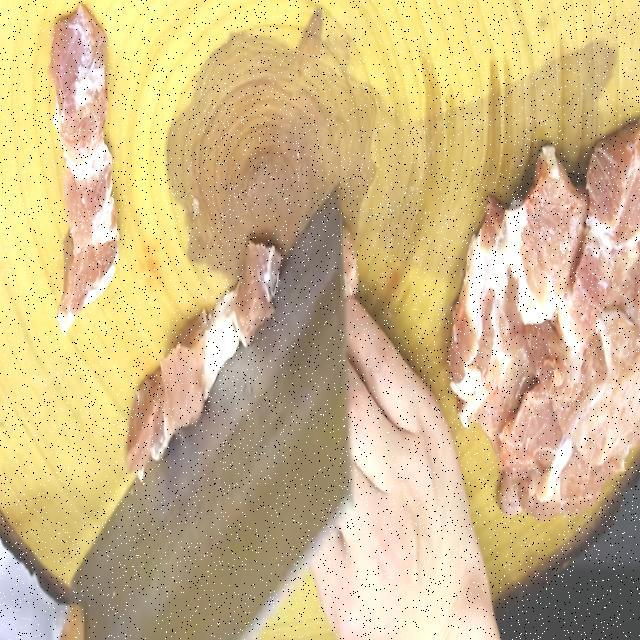pork: (115, 224, 295, 497), (34, 0, 133, 357), (495, 336, 637, 500), (567, 124, 640, 355), (524, 123, 587, 335), (454, 199, 509, 420)
